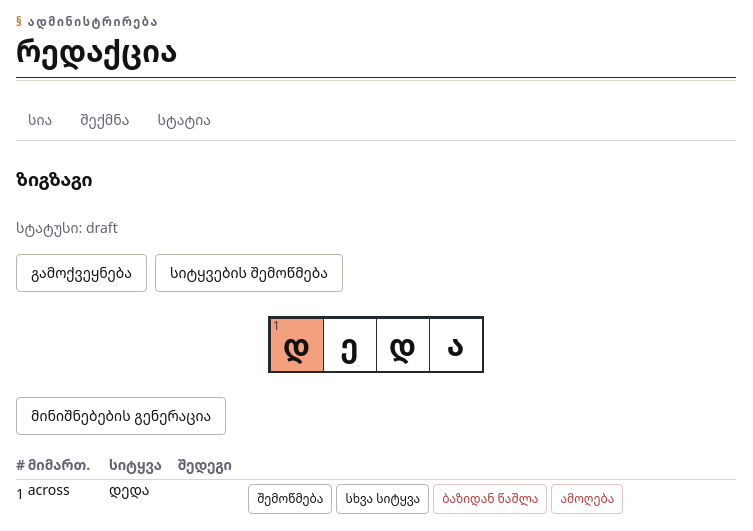
Scenario: DETAIL / PuzzleDetail › publishes (schedules) the puzzle
The image size is (753, 531).
Expected: the table "1 დ ე დ ა" is shown, top-left (268, 316), bottom-right (484, 373)
Click the button "გამოქვეყნება" at (82, 273), box top-left (16, 254), bottom-right (147, 292)
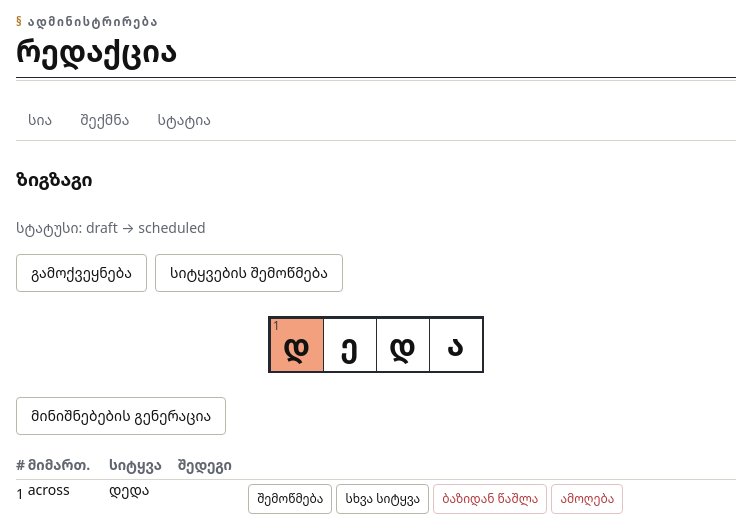
Expected: the text "სტატუსი: draft → scheduled" is shown, top-left (16, 218), bottom-right (206, 237)
